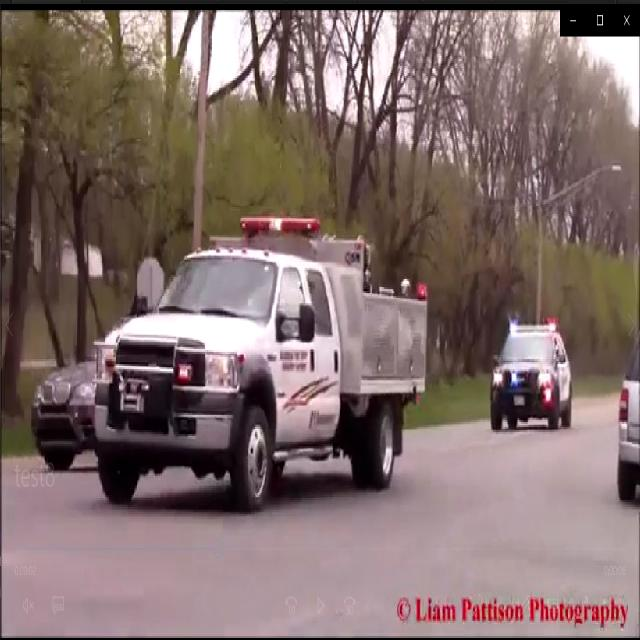emergency: (91, 209, 430, 518), (488, 305, 572, 438)
